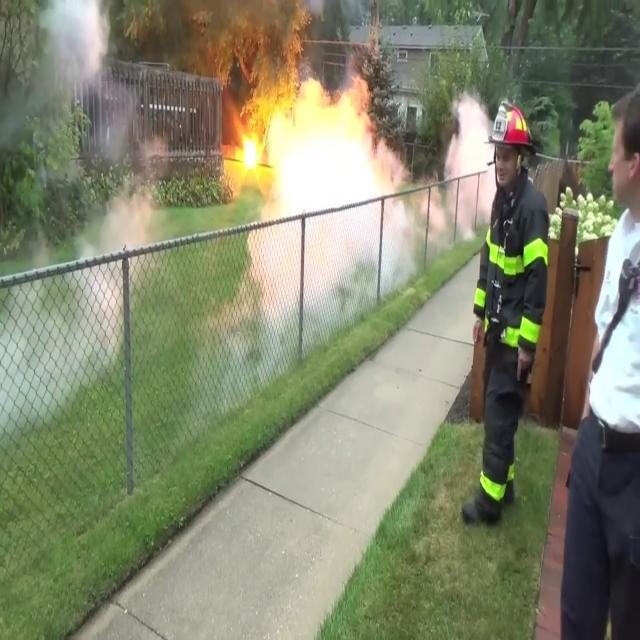Fire: (224, 100, 282, 200)
Smoke: (240, 92, 414, 364), (6, 201, 141, 426), (1, 1, 127, 162), (436, 90, 501, 234)
